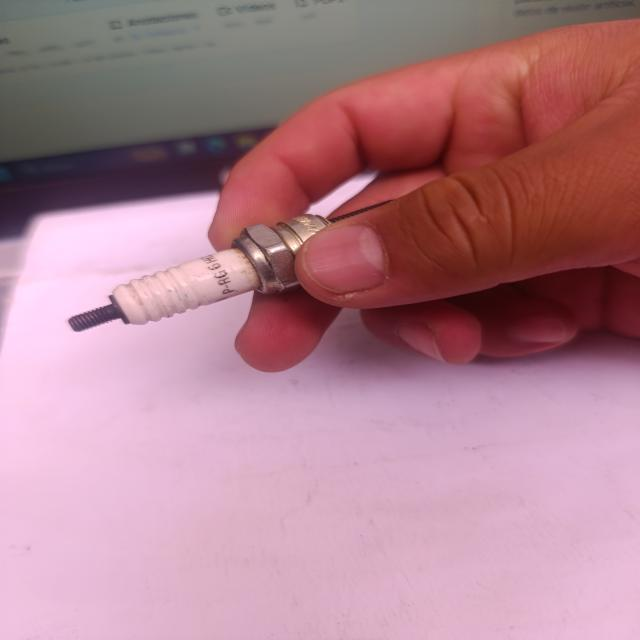bujia: (69, 216, 328, 332)
